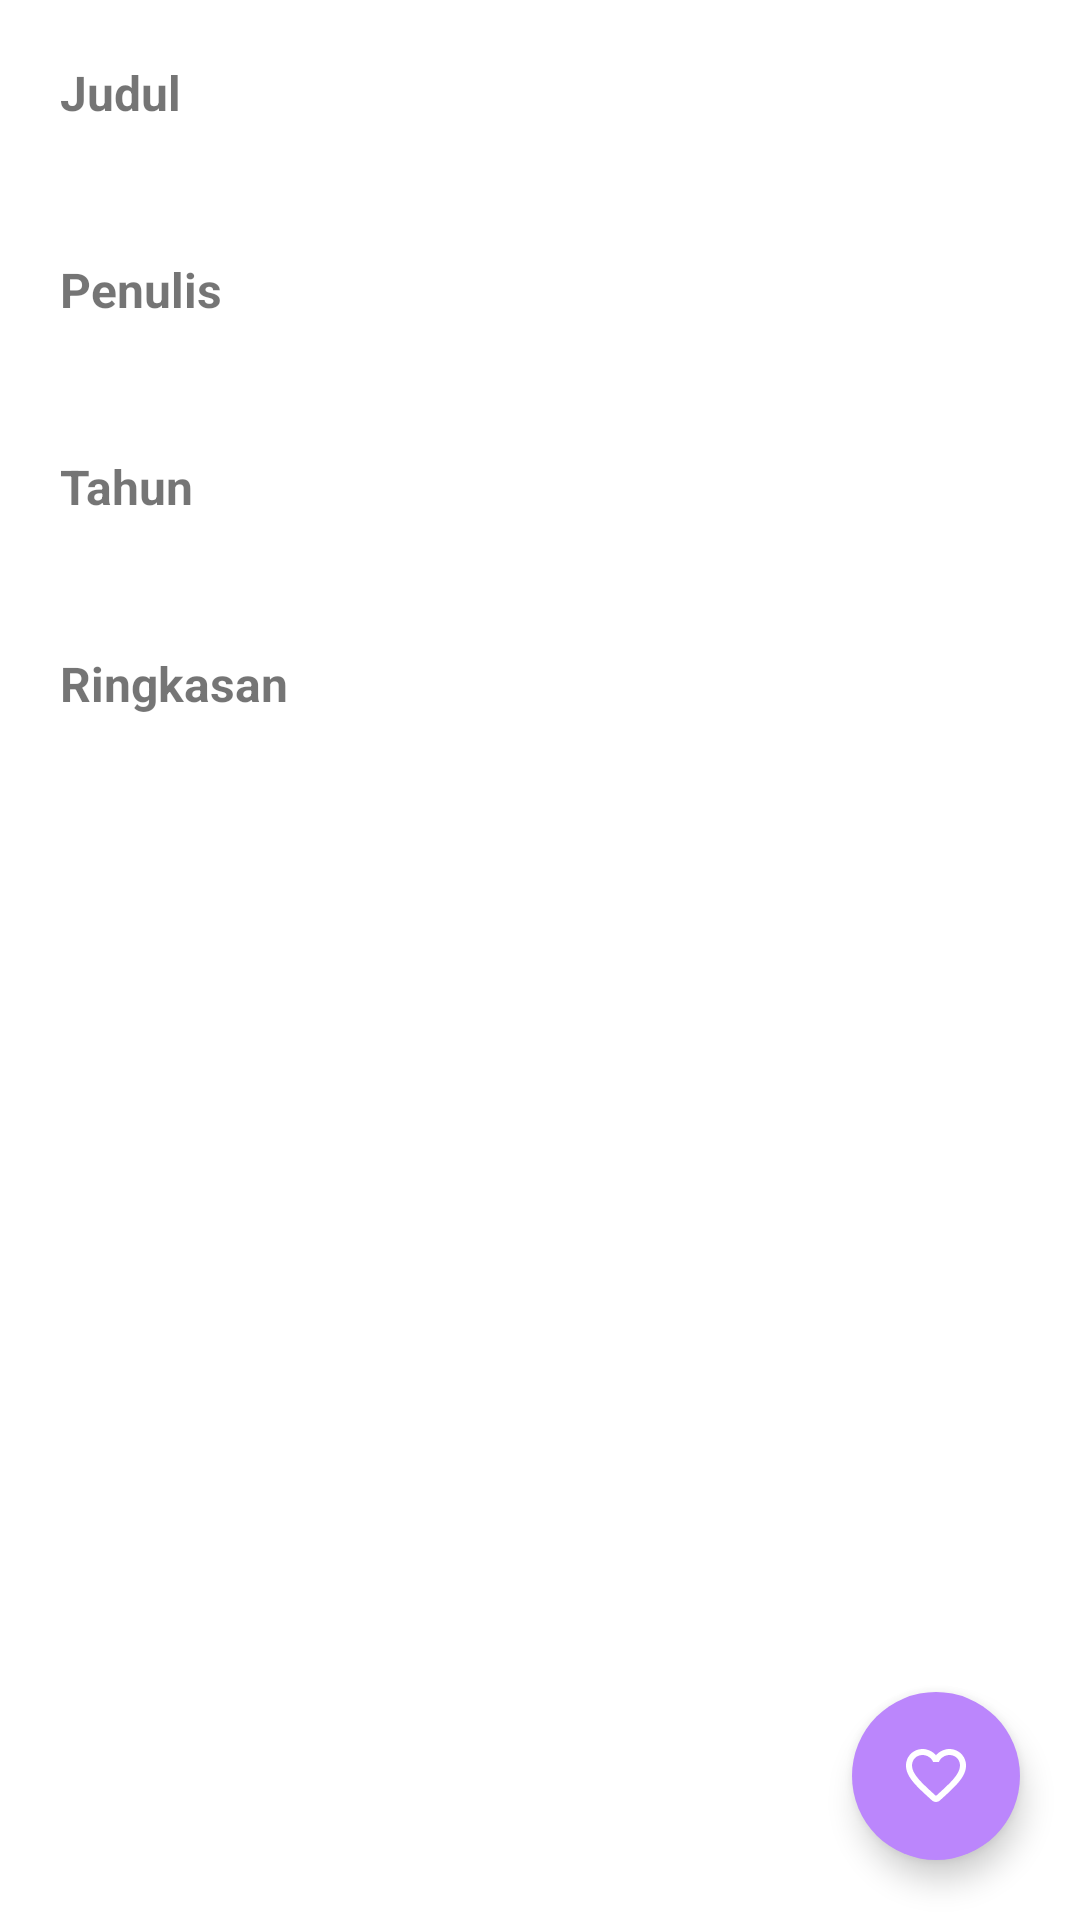

Icons on this 1080 × 1920 Android screen, each with the point to tap as [x,y]:
Favorite: [936,1776]
